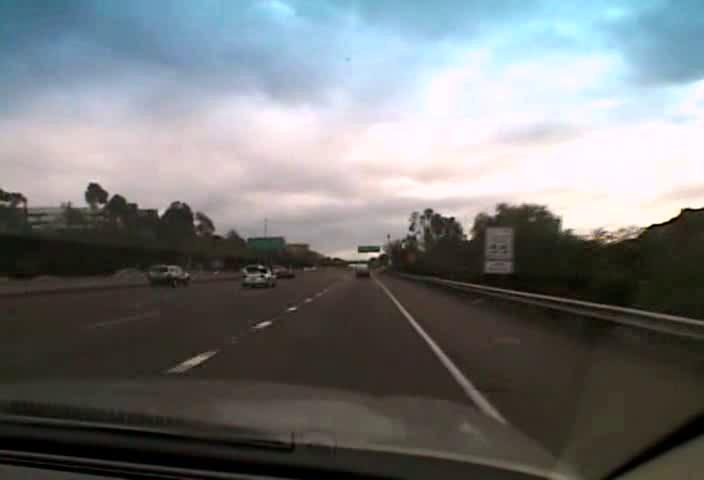truckSpeedLimit55: (483, 226, 513, 261)
